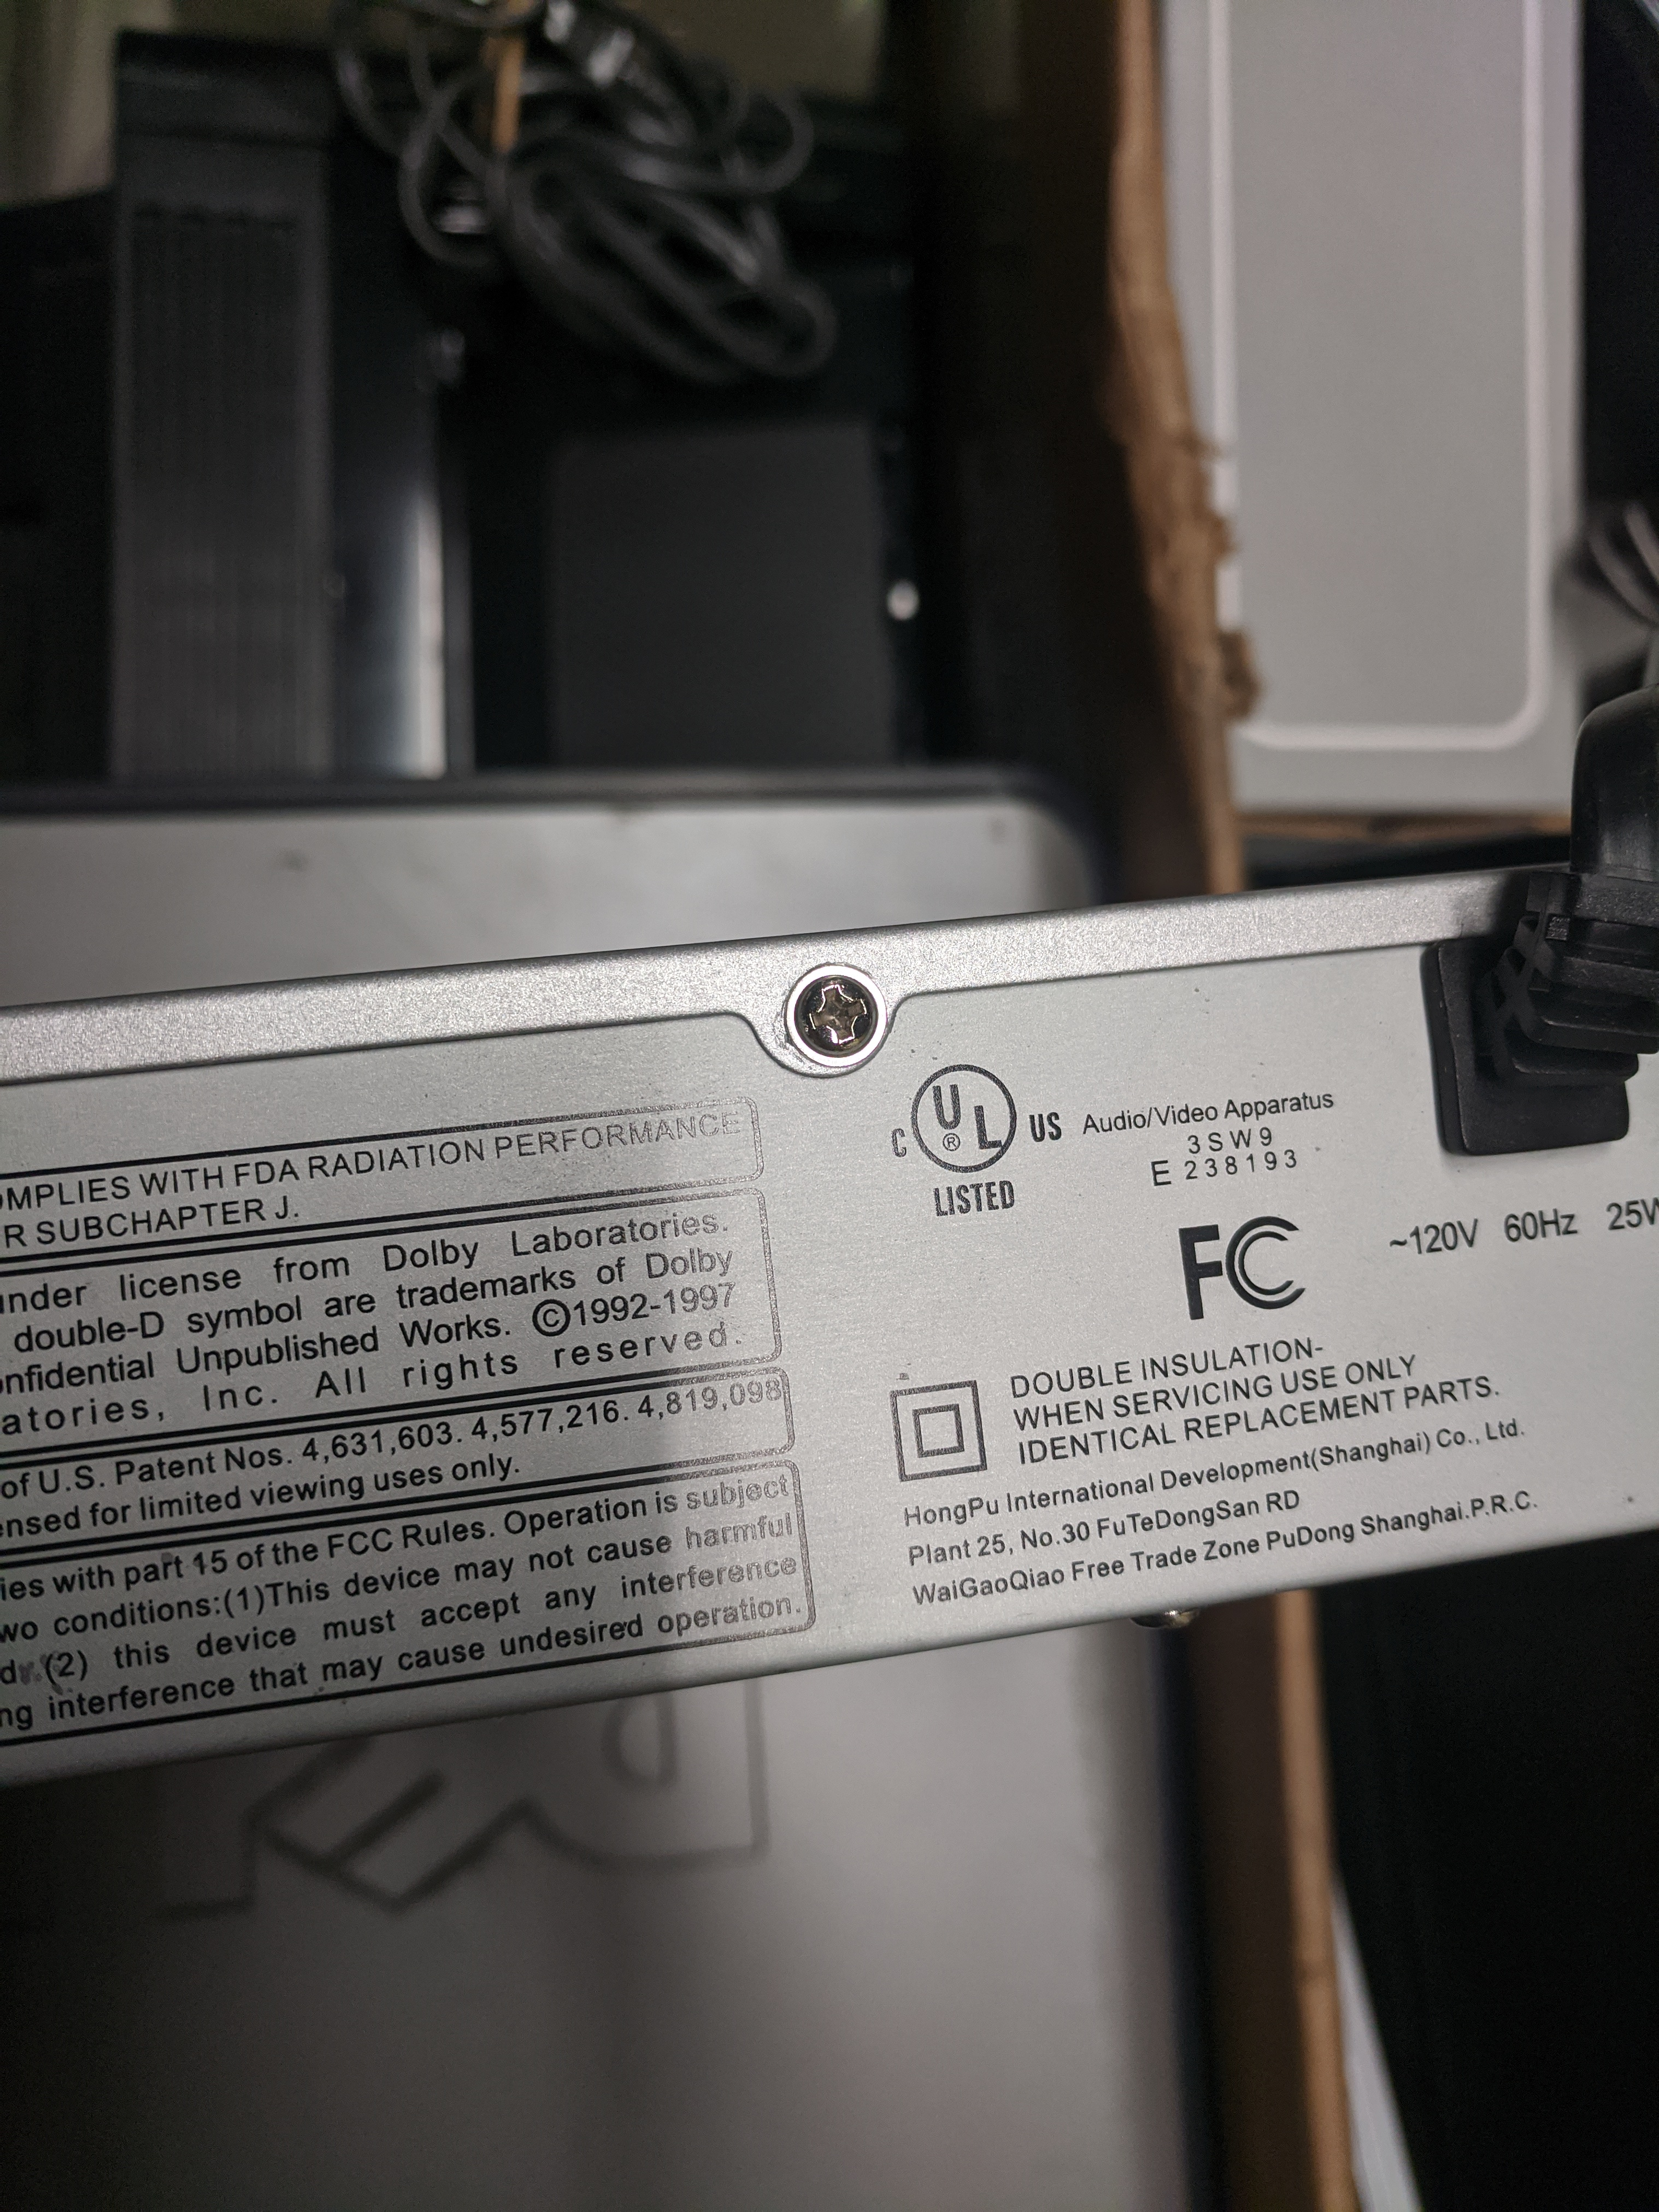cross_recessed_screw: (784, 956, 887, 1054)
